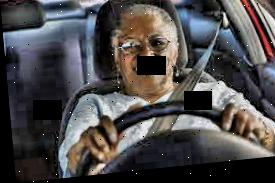seatbelt: (132, 15, 239, 140)
